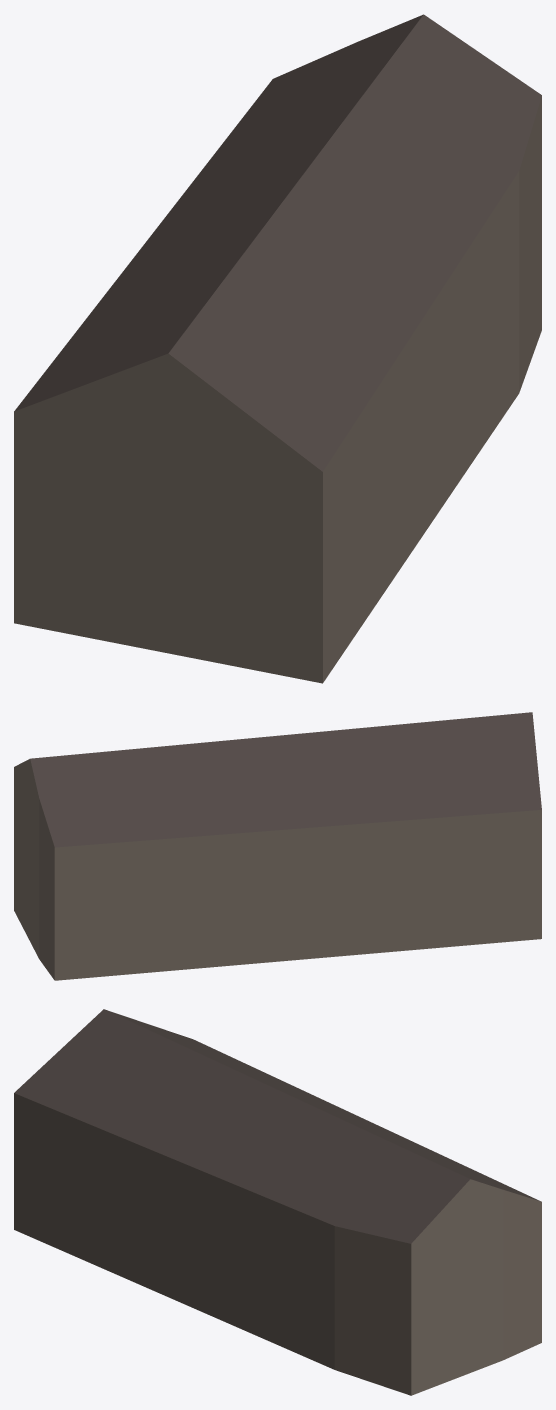
The picture shows the model from 3 angles, top to bottom: view 1: azimuth 30°, elevation 25°; view 2: azimuth 150°, elevation 25°; view 3: azimuth 270°, elevation 25°; orthographic projection. The views are drawn at different scales.
Parts seen in each view (by area): view 1: HP-w1515076928; view 2: HP-w1515076928; view 3: HP-w1515076928.
Boxes of the visible parts, x1,y1,x2,y2 form: HP-w1515076928: (14, 14, 541, 683); HP-w1515076928: (14, 712, 541, 980); HP-w1515076928: (14, 1009, 541, 1395).
Size of the model in its own units: 20.66 by 8.5 by 20.99.
